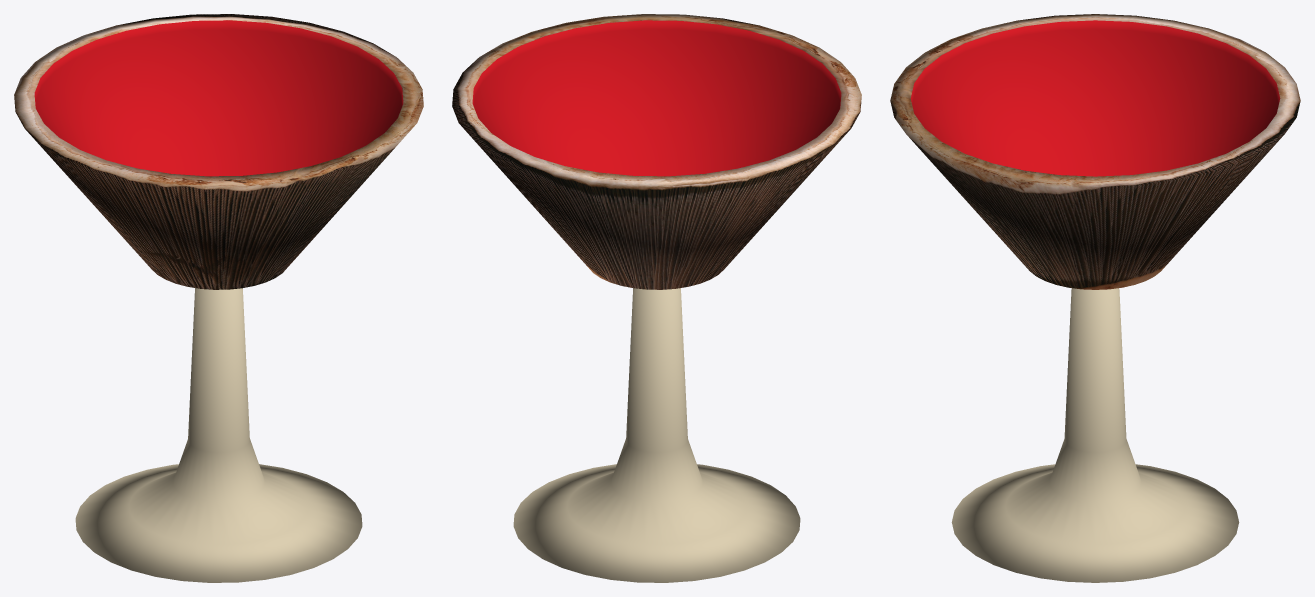
Rendered from champi01.fbx.
3 renders of one model, left to right at view 1: azimuth 30°, elevation 25°; view 2: azimuth 150°, elevation 25°; view 3: azimuth 270°, elevation 25°, orthographic.
Visible parts, largest first — view 1: Cube; view 2: Cube; view 3: Cube.
Boxes of the visible parts, box(x1,y1,x2,y2) form: Cube: box(14, 14, 423, 582); Cube: box(452, 14, 861, 582); Cube: box(890, 14, 1300, 582).
Bounding box in the file's own units: 169 × 193 × 169.
